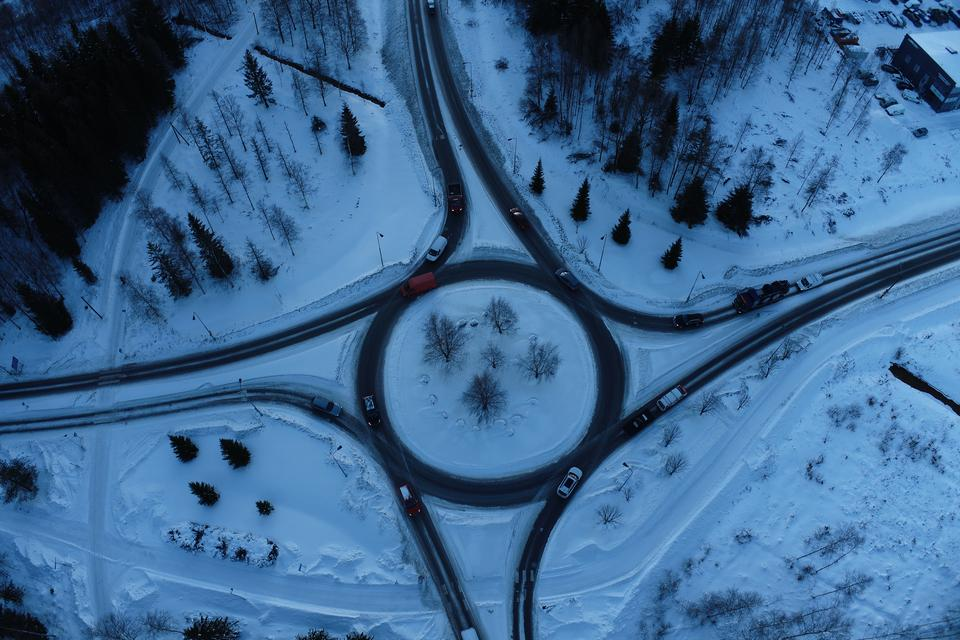intersection: (399, 559, 570, 614), (81, 352, 134, 449)
roundabout: (330, 216, 656, 534)
